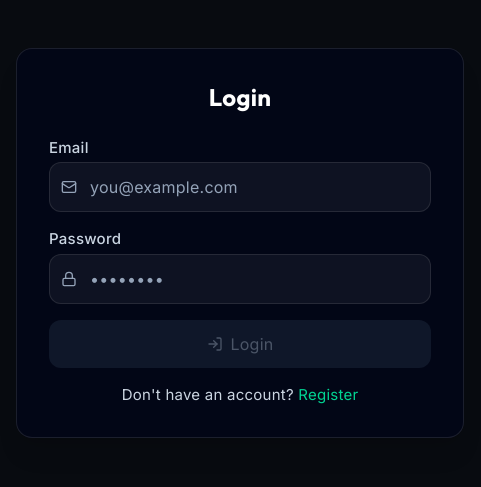
Test: Login Component Tests › should show validation error on form submit with invalid email format
The width and height of the screenshot is (481, 487).
# Inputs not empty enables submit button
Type "invalidemail" into the field with placeholder "you@example.com" at point(240, 187), box x1=49 y1=162 x2=431 y2=212
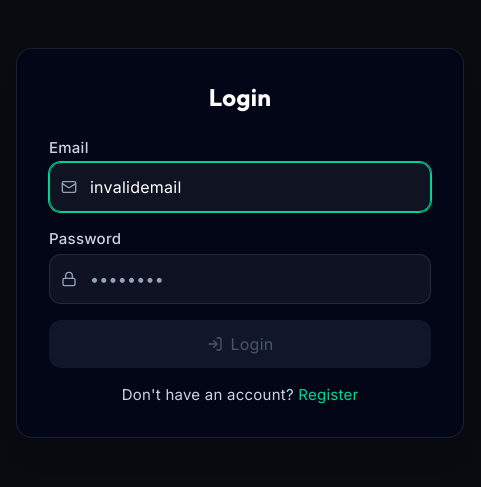
Type "password123" into the password field with placeholder "••••••••" at point(240, 279), box x1=49 y1=254 x2=431 y2=304
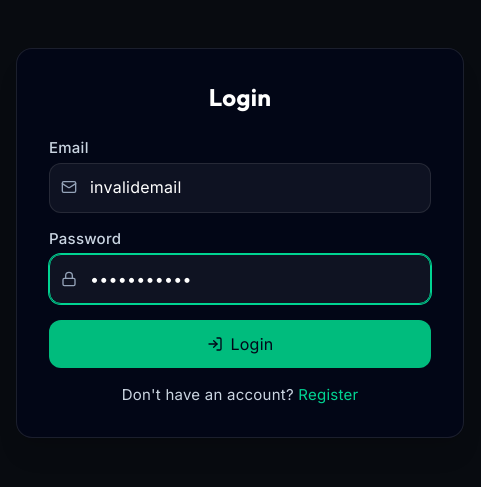
Expected: the button "Login" is enabled
Click the button "Login" at point(240, 344), box x1=49 y1=320 x2=431 y2=368
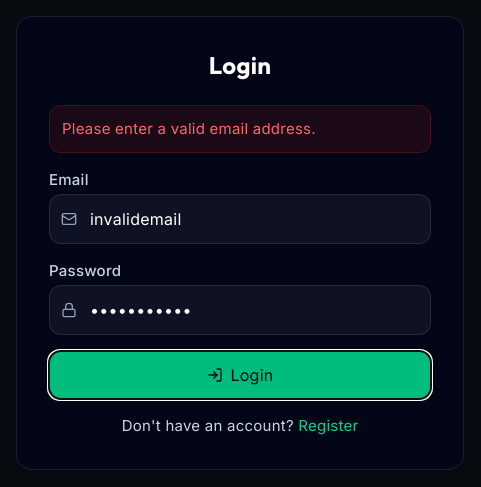
Expected: the text "Please enter a valid email address." is shown, x1=49 y1=105 x2=431 y2=153
